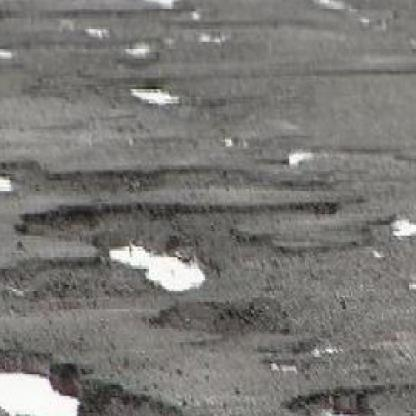pothole: (0, 339, 133, 416), (107, 234, 211, 294), (45, 162, 164, 196), (17, 206, 107, 249), (277, 380, 380, 416), (0, 156, 45, 200)
